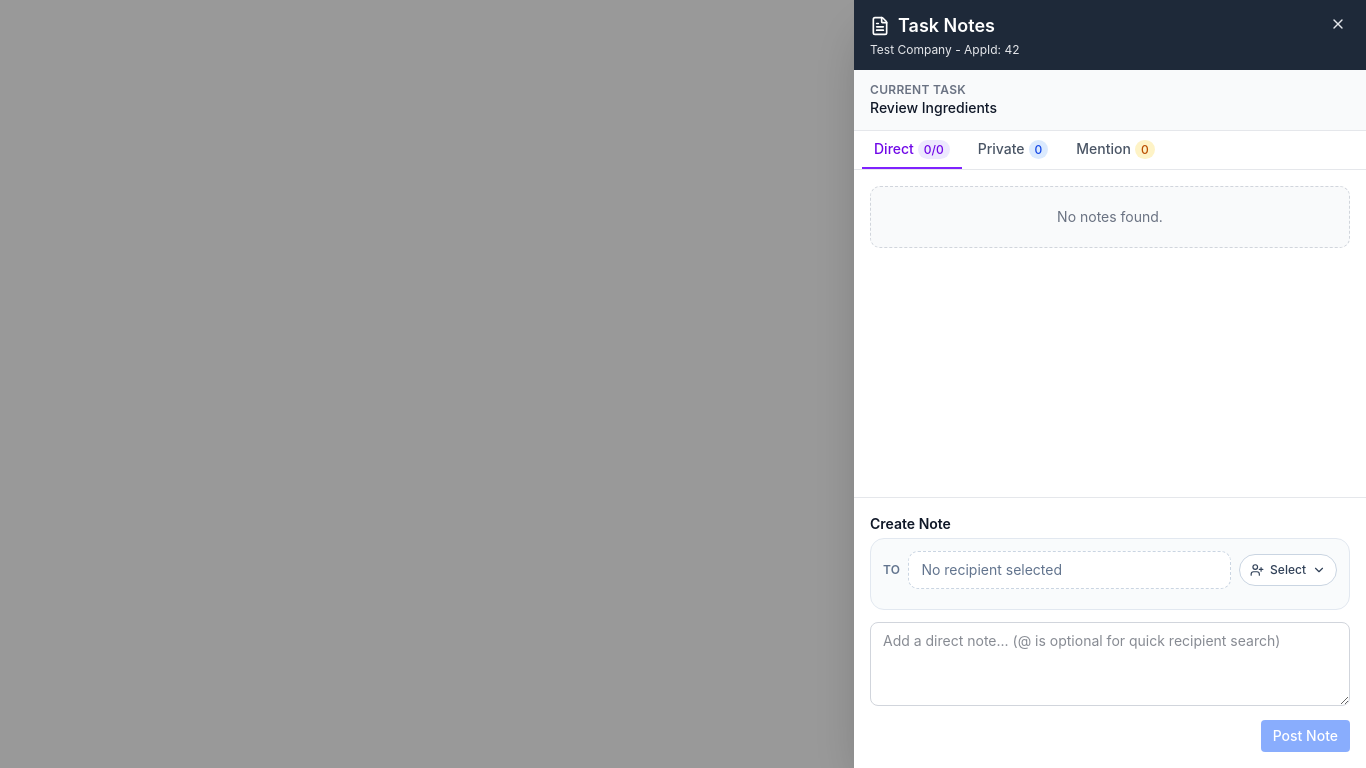
TaskNotesDrawer › allows selecting multiple directed users from the picker list
This screenshot has width=1366, height=768.
Click the button with aria-label "Select recipient".
click(1288, 570)  # box [1239, 554, 1337, 586]
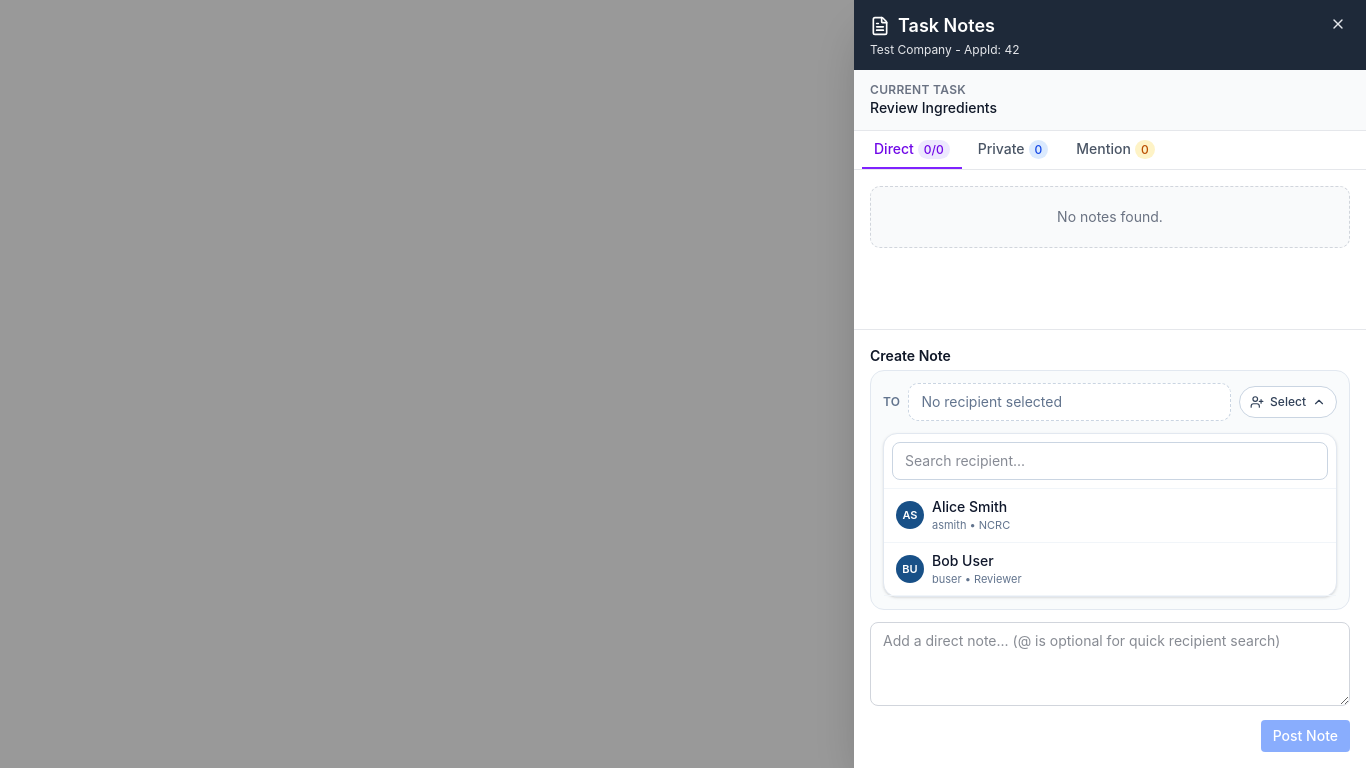
Expected: the button "AS Alice Smith asmith • NCRC" is shown
Expected: the button "BU Bob User buser • Reviewer" is shown, [884, 542, 1336, 596]
Click the button "AS Alice Smith asmith • NCRC".
click(970, 506)  # box [884, 489, 1336, 542]
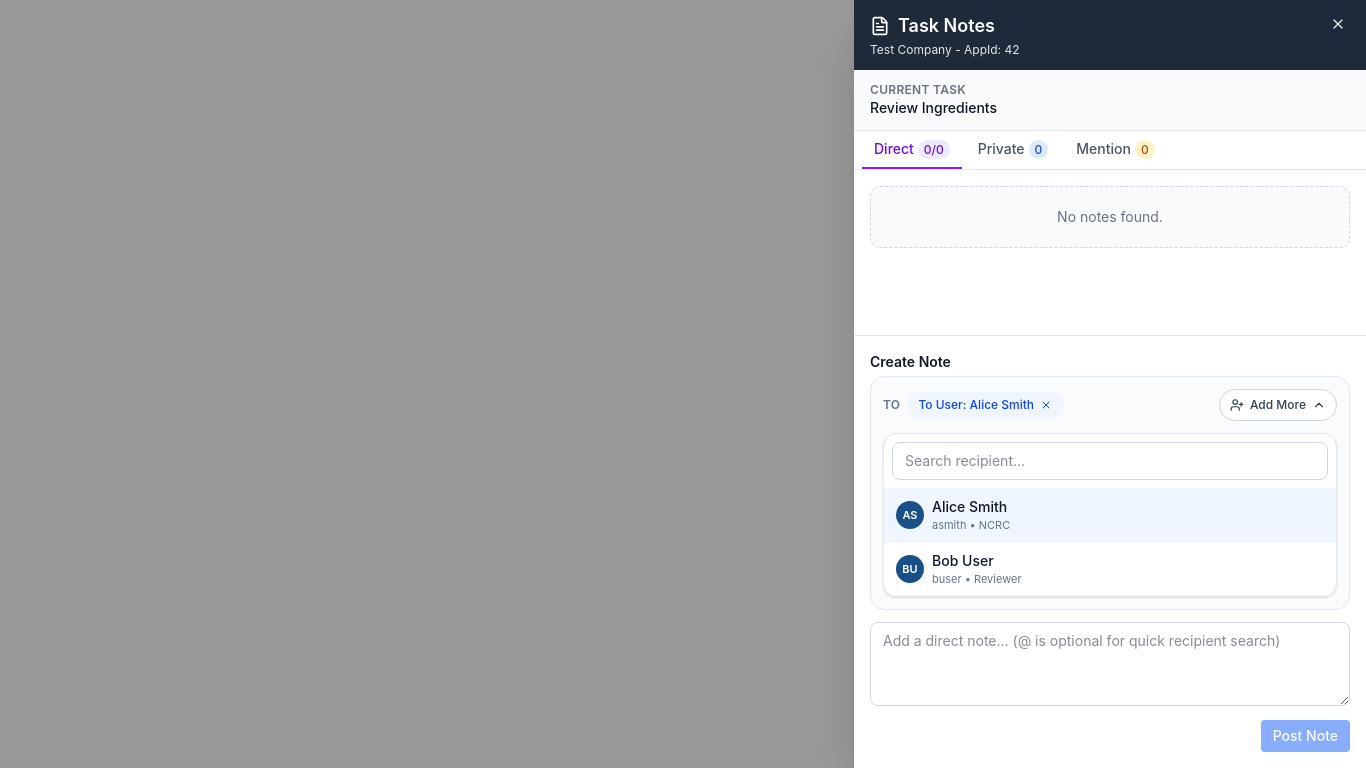
Click the button "BU Bob User buser • Reviewer".
click(963, 560)  # box [884, 542, 1336, 596]
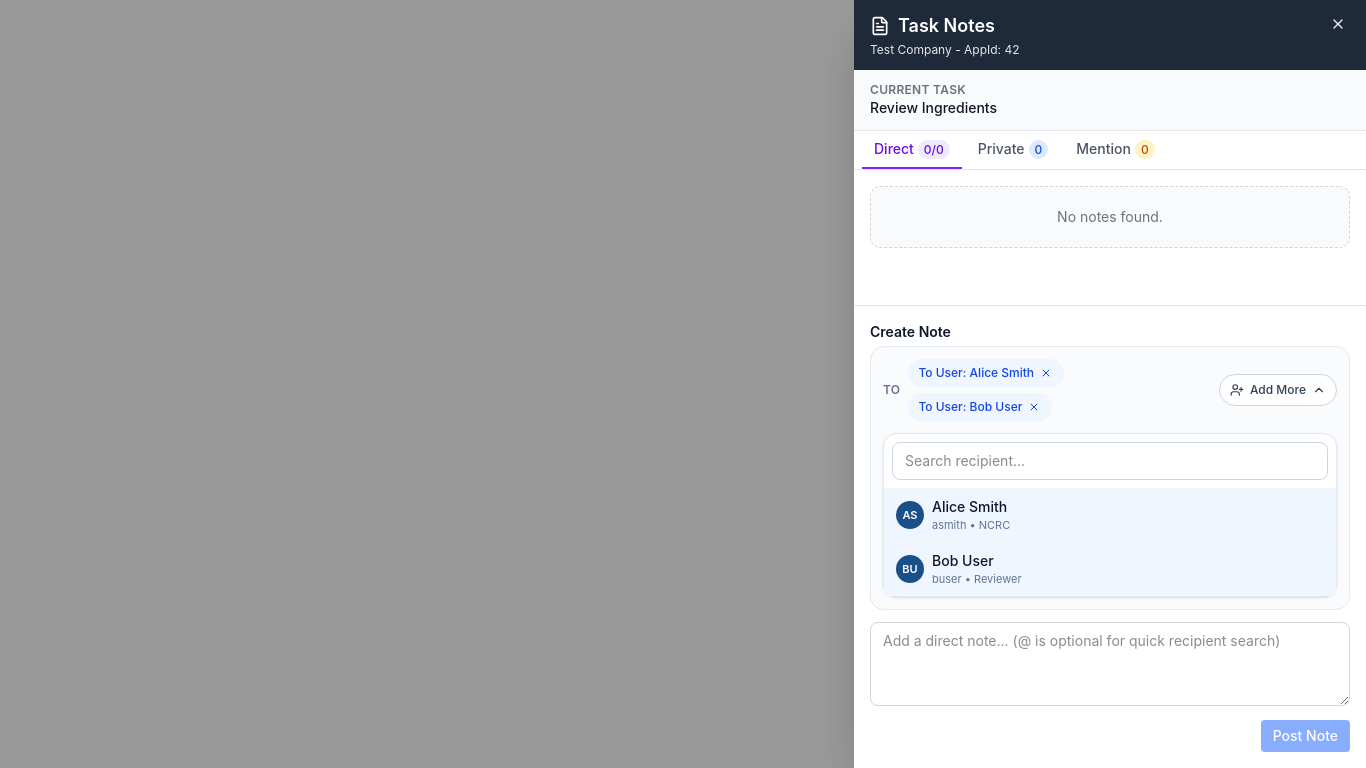
Expected: the text "To User: Alice Smith" is shown, [918, 365, 1034, 381]
Expected: the button with aria-label "Change recipient" is shown, [1219, 374, 1337, 406]
Expected: the text "To User: Bob User" is shown, [918, 399, 1022, 415]
